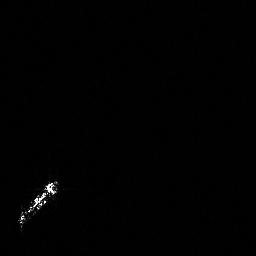ship: (16, 179, 62, 228)
